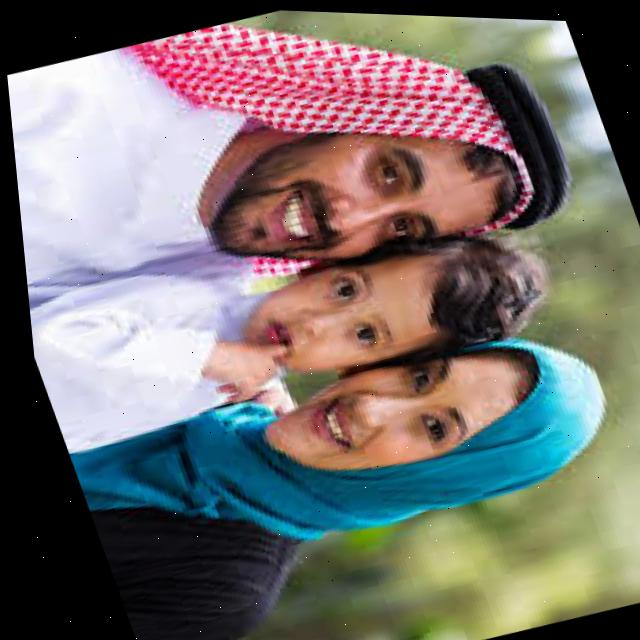happy: (220, 317, 587, 520)
